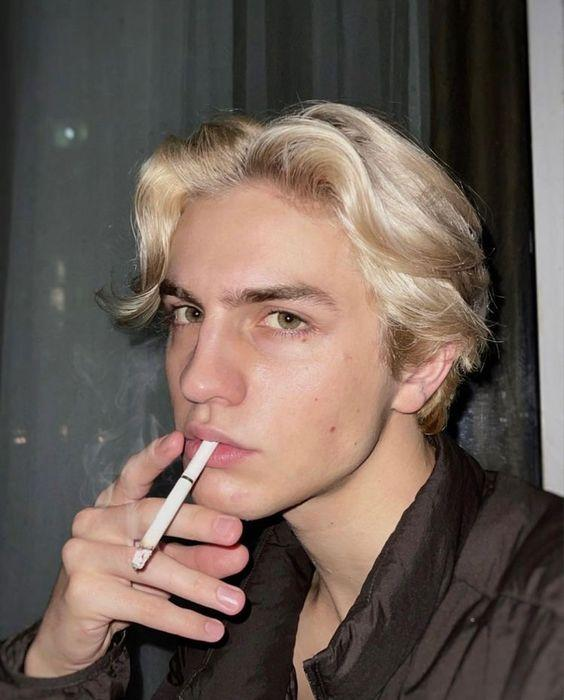cigarette: (132, 440, 220, 570)
